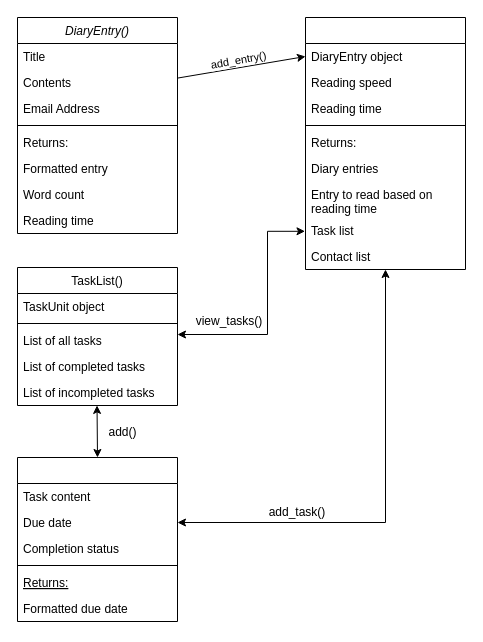
Some shapes in this 483 by 642 pixel diagram are drawn without their labels. Here are the shapes that lost their labels. From the top down, the box of each, then its label:
(304, 16, 466, 270): Class Diary()
(16, 456, 178, 622): TaskUnit()
